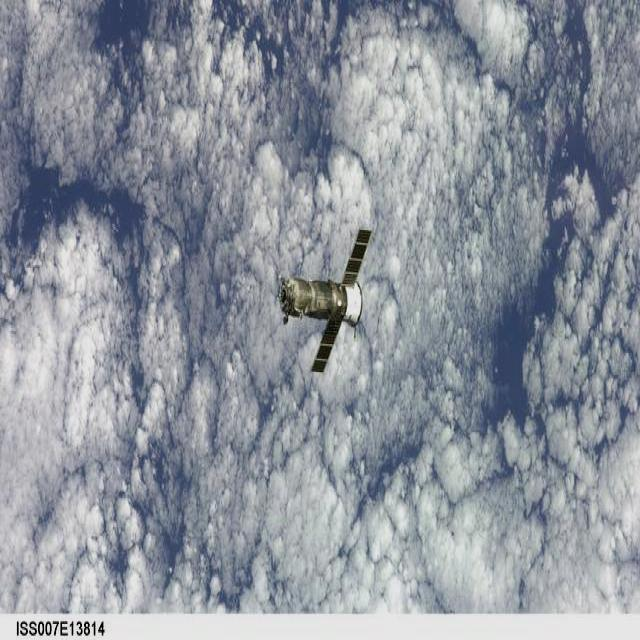satellite: (281, 229, 369, 372)
